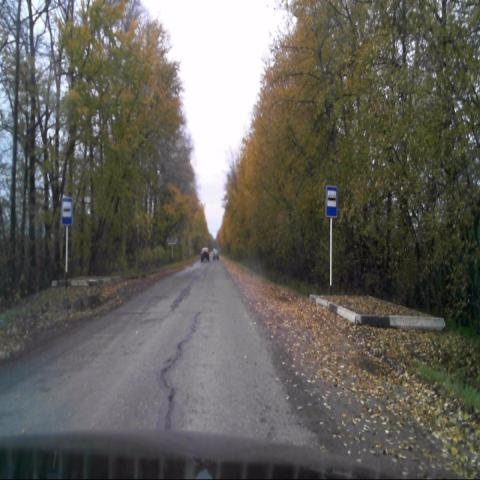5_16: (325, 184, 337, 219)
